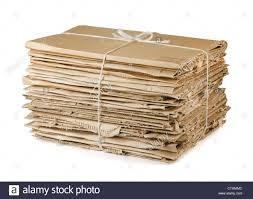paper: (15, 95, 242, 162), (16, 53, 233, 105), (24, 21, 234, 71)
